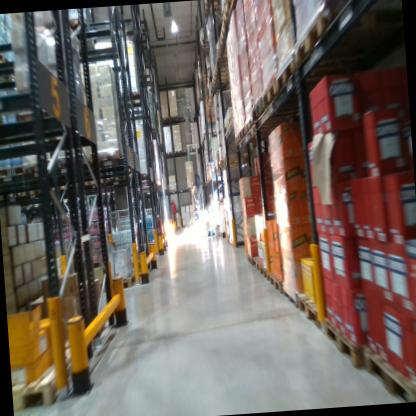pallet: (11, 345, 82, 410), (361, 339, 416, 404), (324, 315, 368, 376), (248, 93, 304, 124), (259, 77, 306, 112), (242, 116, 295, 142), (295, 286, 321, 330), (234, 129, 286, 147), (236, 122, 290, 137), (221, 2, 250, 26), (219, 24, 249, 47), (91, 149, 122, 170), (119, 85, 142, 112), (111, 268, 138, 290), (283, 280, 300, 314), (268, 269, 288, 293), (215, 45, 235, 69), (11, 161, 39, 178), (22, 185, 47, 202), (65, 15, 87, 34), (0, 49, 12, 79), (253, 256, 272, 273), (203, 0, 221, 17), (259, 264, 271, 283), (231, 240, 250, 251), (159, 114, 170, 124), (247, 254, 255, 267), (230, 108, 234, 122)
